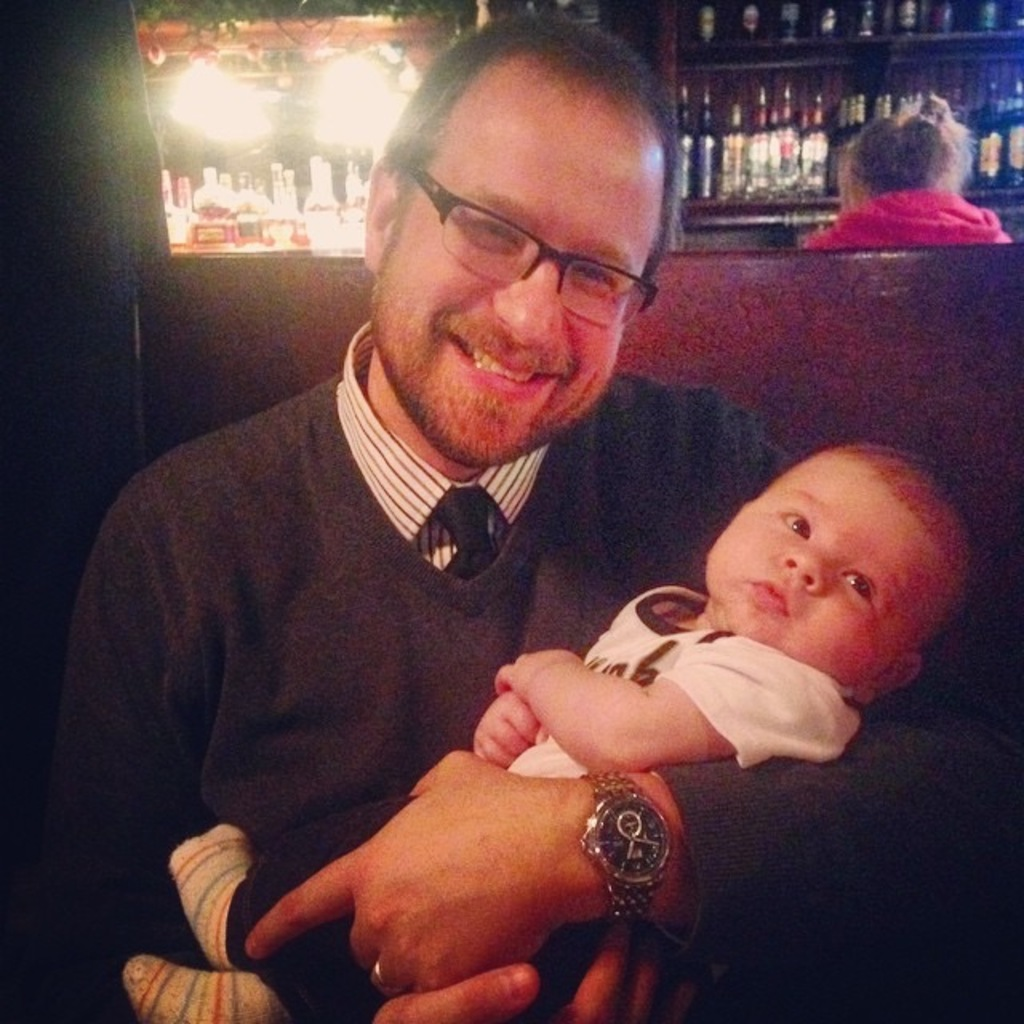Human_hand: (275, 739, 661, 992), (373, 922, 698, 1022), (467, 688, 538, 770), (490, 645, 582, 701)
